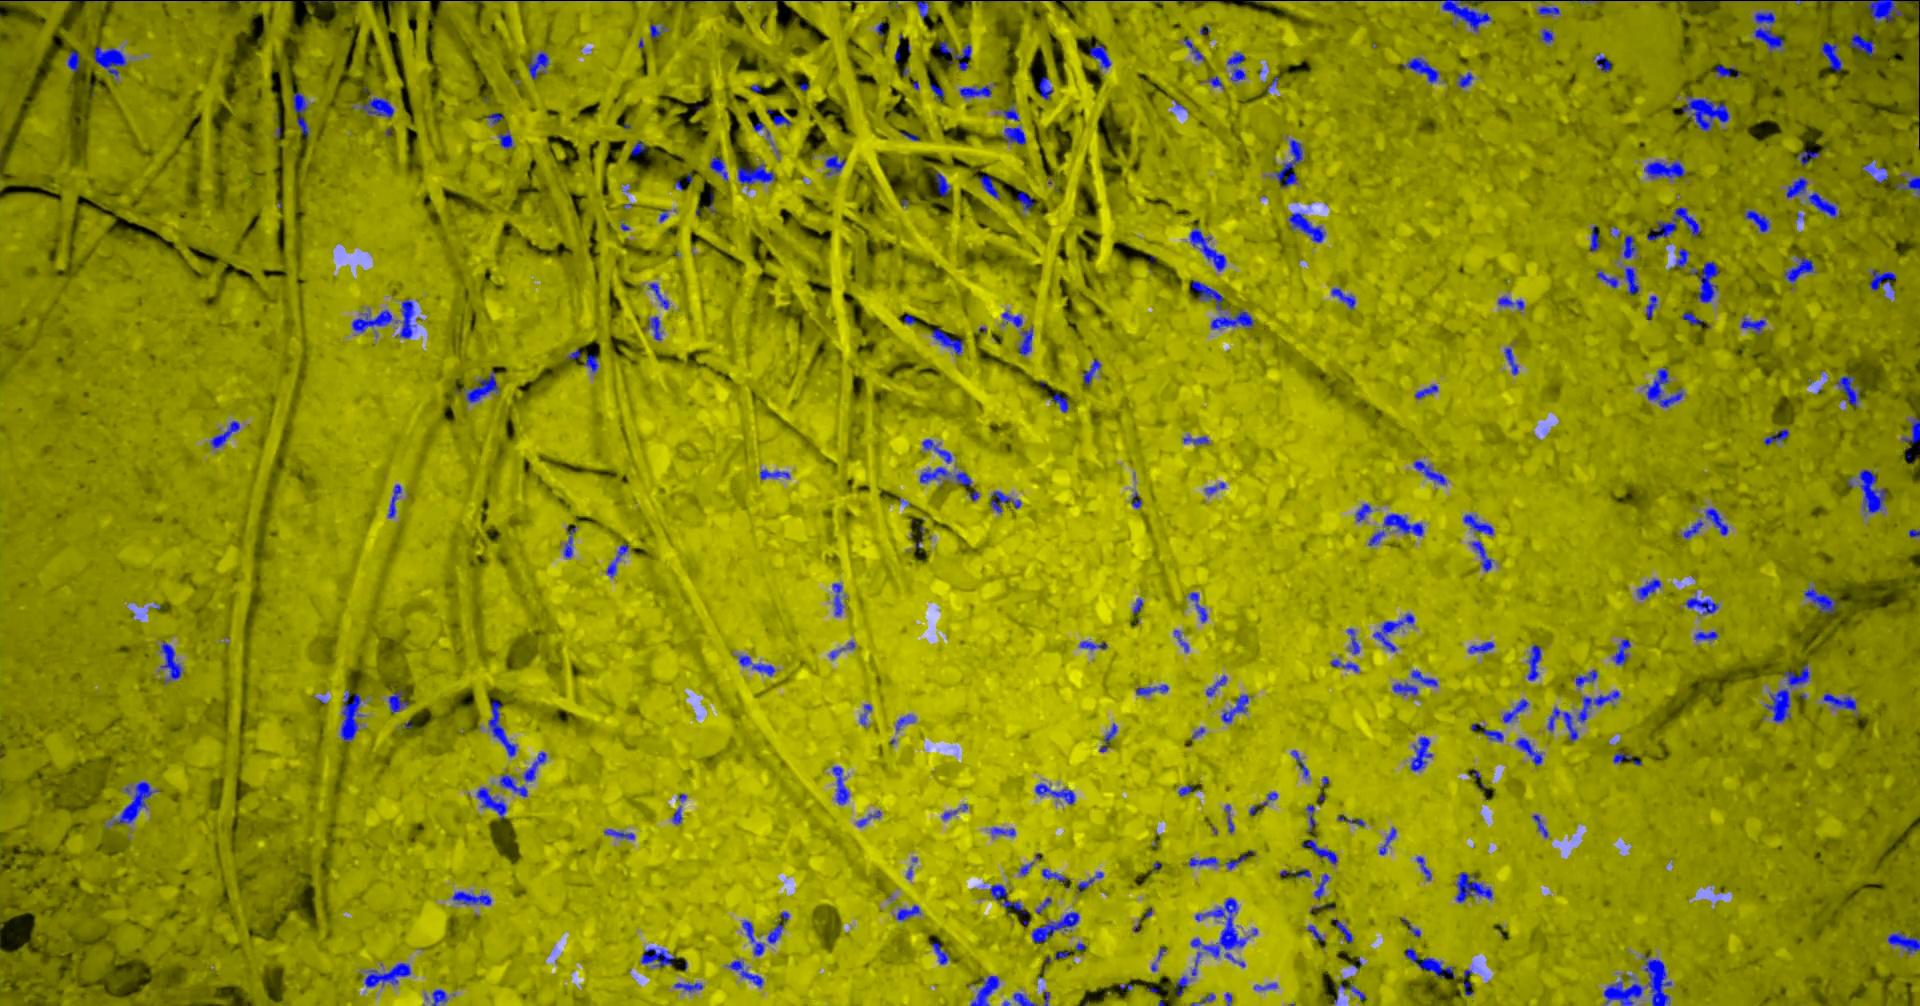ant: (1764, 663, 1810, 721), (107, 781, 159, 824), (1646, 206, 1702, 240), (1368, 513, 1423, 545), (1681, 95, 1730, 131), (1854, 0, 1919, 25), (1371, 614, 1415, 652), (1189, 226, 1225, 271), (488, 700, 516, 756), (1031, 911, 1079, 942), (1441, 0, 1491, 30), (1404, 948, 1454, 978), (1644, 367, 1683, 406), (1642, 955, 1671, 1005), (1576, 690, 1619, 721), (1274, 138, 1302, 187), (1752, 11, 1783, 53), (1858, 469, 1886, 514), (1689, 260, 1718, 302), (340, 688, 363, 741), (989, 883, 1026, 915), (364, 962, 410, 987), (93, 44, 126, 79), (1288, 212, 1324, 243), (1455, 871, 1492, 902), (350, 309, 397, 332), (465, 370, 498, 401), (1547, 708, 1577, 741), (1603, 981, 1643, 1005), (1401, 57, 1439, 83), (1190, 279, 1222, 310), (938, 41, 971, 70), (728, 960, 763, 987), (159, 641, 182, 682), (476, 786, 505, 818), (1803, 587, 1837, 614), (931, 326, 963, 354), (1210, 309, 1253, 329), (1034, 782, 1074, 804), (1807, 191, 1837, 218), (604, 542, 629, 577), (1302, 840, 1336, 864), (737, 163, 775, 184), (970, 976, 998, 1005), (1413, 460, 1446, 484), (210, 420, 239, 447), (1783, 257, 1813, 282), (921, 438, 951, 464), (291, 91, 309, 135), (1410, 735, 1431, 771), (742, 920, 763, 955), (1222, 694, 1248, 721), (1515, 737, 1542, 765), (1836, 375, 1859, 406), (830, 766, 850, 804), (1643, 160, 1684, 178), (1818, 42, 1843, 71), (738, 655, 775, 674), (523, 751, 546, 781), (767, 911, 789, 942), (1887, 931, 1919, 953), (1333, 983, 1365, 1005), (1704, 507, 1728, 535), (359, 97, 392, 117), (989, 490, 1020, 512), (640, 948, 674, 967), (399, 298, 415, 338), (499, 774, 527, 796), (1470, 541, 1491, 572), (1848, 33, 1873, 57), (1743, 210, 1770, 232), (1462, 514, 1493, 533), (1189, 591, 1208, 622), (527, 51, 549, 79), (1470, 723, 1503, 741), (1225, 51, 1244, 81), (977, 174, 999, 199), (1502, 699, 1528, 721), (1225, 848, 1253, 869), (451, 890, 491, 904), (1821, 694, 1855, 710), (1685, 597, 1718, 614), (648, 282, 668, 309), (1901, 417, 1919, 447), (1077, 871, 1103, 892), (1088, 44, 1110, 69), (1636, 578, 1660, 600), (1869, 269, 1895, 290), (1611, 638, 1630, 664), (1526, 644, 1540, 680), (1098, 723, 1116, 751), (1331, 287, 1355, 307), (1290, 749, 1308, 776), (1378, 827, 1396, 854), (824, 152, 844, 175), (387, 484, 401, 517), (1410, 669, 1437, 686), (709, 156, 728, 180), (1895, 175, 1919, 194), (1740, 318, 1765, 335), (1082, 359, 1100, 385), (919, 466, 949, 481), (1763, 428, 1789, 445), (828, 641, 855, 658), (941, 803, 968, 819), (1313, 873, 1330, 899), (1785, 177, 1807, 197), (1205, 674, 1225, 696), (389, 690, 408, 713), (930, 941, 949, 964), (766, 108, 790, 126), (1415, 855, 1431, 880), (1183, 38, 1203, 60), (1624, 267, 1639, 293), (1017, 328, 1032, 354), (1335, 920, 1352, 942), (959, 85, 990, 98), (563, 526, 575, 558), (1683, 520, 1703, 539), (855, 810, 880, 826), (1003, 126, 1025, 144), (832, 583, 843, 616), (1575, 669, 1597, 686), (1503, 347, 1517, 373), (935, 171, 950, 196), (1596, 271, 1618, 287), (1001, 310, 1022, 326), (1330, 658, 1357, 671), (1537, 0, 1559, 15), (1037, 76, 1053, 99), (1173, 629, 1189, 652), (1531, 814, 1547, 837), (603, 828, 634, 840), (897, 904, 919, 920), (1346, 627, 1359, 654), (1862, 160, 1886, 174), (1622, 234, 1636, 258), (648, 316, 662, 340), (1041, 868, 1065, 882), (1016, 191, 1032, 211), (1135, 683, 1168, 694), (1674, 246, 1689, 268), (424, 989, 446, 1005), (1497, 296, 1523, 309), (1392, 682, 1417, 695), (1796, 150, 1818, 164), (1415, 384, 1437, 398), (912, 0, 930, 18), (1307, 923, 1324, 941), (1051, 392, 1068, 412), (895, 714, 914, 730), (1644, 295, 1657, 319), (1467, 641, 1493, 653), (759, 469, 789, 479), (1594, 53, 1610, 71), (1355, 503, 1371, 521), (928, 83, 943, 102), (497, 130, 512, 149), (583, 353, 598, 372), (858, 702, 871, 725), (1012, 992, 1035, 1005), (1190, 993, 1215, 1005), (1589, 224, 1599, 251), (951, 471, 971, 485), (674, 981, 702, 991), (1279, 868, 1310, 876), (66, 50, 79, 71), (1204, 481, 1225, 494), (1002, 103, 1018, 119), (1337, 815, 1364, 826), (1716, 64, 1735, 77), (1175, 976, 1189, 995), (1224, 804, 1233, 833), (1189, 856, 1218, 865), (1182, 434, 1208, 445), (649, 23, 665, 38), (1305, 804, 1314, 832), (1681, 312, 1703, 324), (1611, 751, 1630, 763), (1079, 640, 1106, 649), (630, 140, 645, 155), (670, 805, 682, 824), (1693, 631, 1717, 640), (990, 827, 1015, 836), (1457, 72, 1472, 86), (1208, 75, 1223, 89), (1540, 28, 1553, 43), (486, 112, 502, 124), (1178, 784, 1192, 795), (1131, 492, 1142, 507), (1660, 0, 1721, 1)
